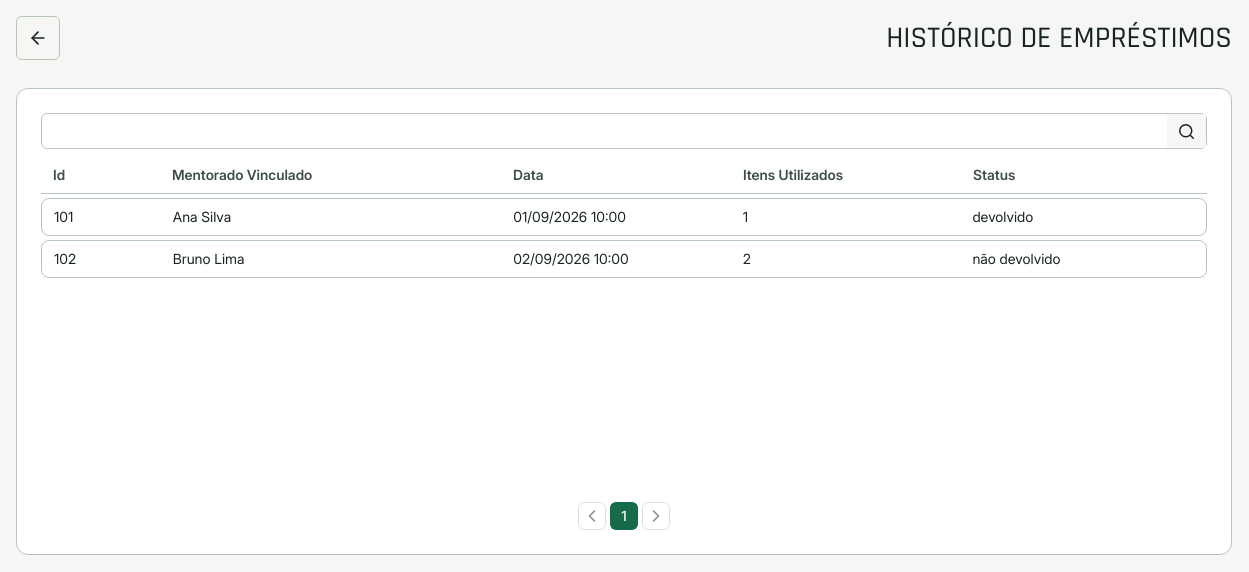
histórico geral responsivo › preserva filtro, ordenação e estado vazio
The width and height of the screenshot is (1249, 572).
Type "Bruno" into the field named "Pesquisar" at point(604, 131), box [42, 114, 1167, 148]
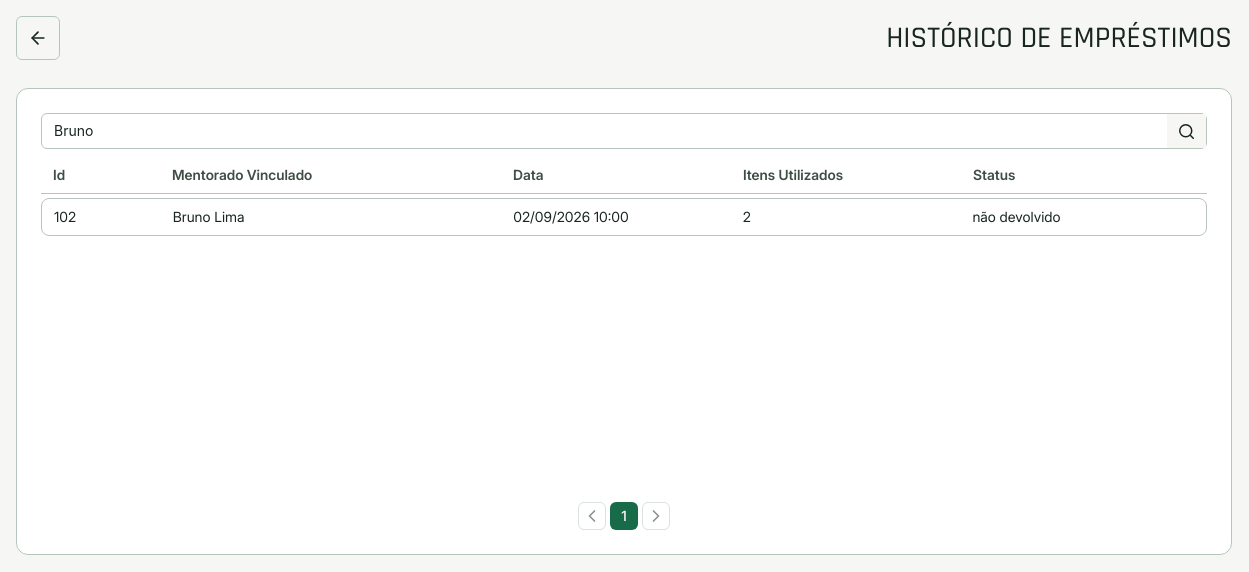
Expected: the list item shows "102", [54, 208, 76, 225]
Result: the number of list items is 1 at [41, 198, 1207, 236]
Replace the text in the field named "Pesquisar" with "inexistente" at point(604, 131), box [42, 114, 1167, 148]
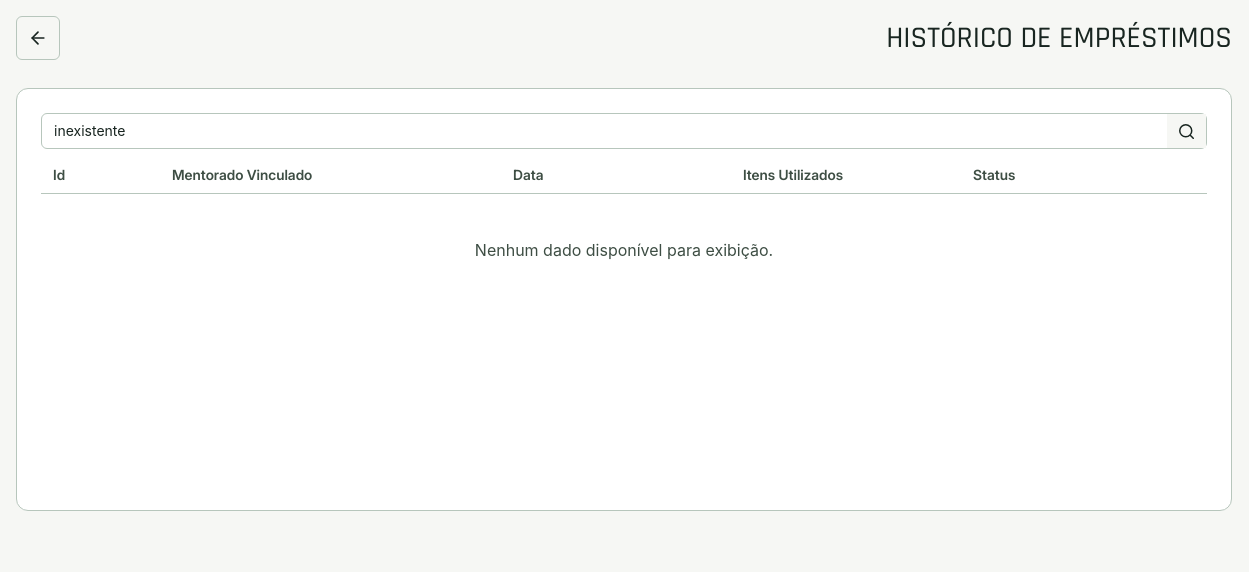
Result: the text "Nenhum dado disponível para exibição." is shown at [475, 240, 773, 260]
